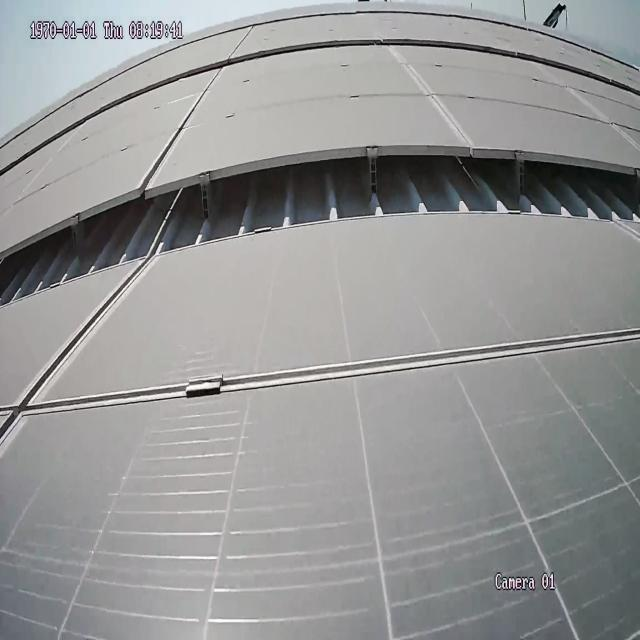interior panel: (0, 276, 636, 450), (144, 73, 226, 181), (391, 55, 473, 142)
outher panel: (4, 147, 639, 311)
